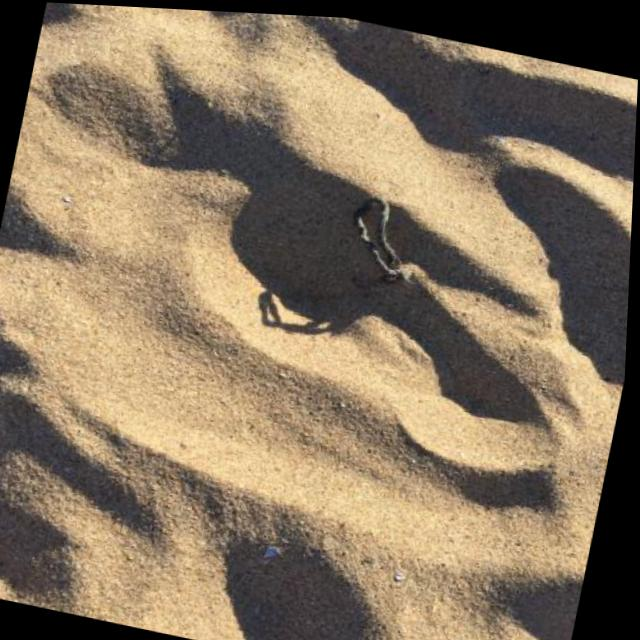other: (340, 190, 417, 283)
